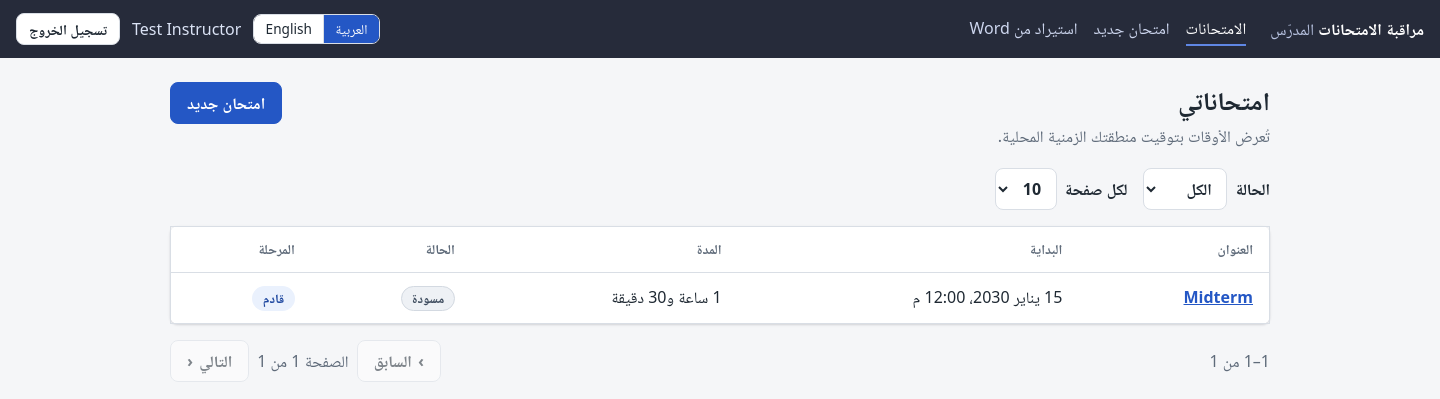
Test case: language switching in the running app › switches to English and back immediately, keeps the page and the session, and stores only the language code
This screenshot has width=1440, height=399.
expect the heading "امتحاناتي" is shown: met, box [1178, 83, 1270, 118]
Step 1. Click the button "English" → (289, 29), box [254, 15, 324, 43]
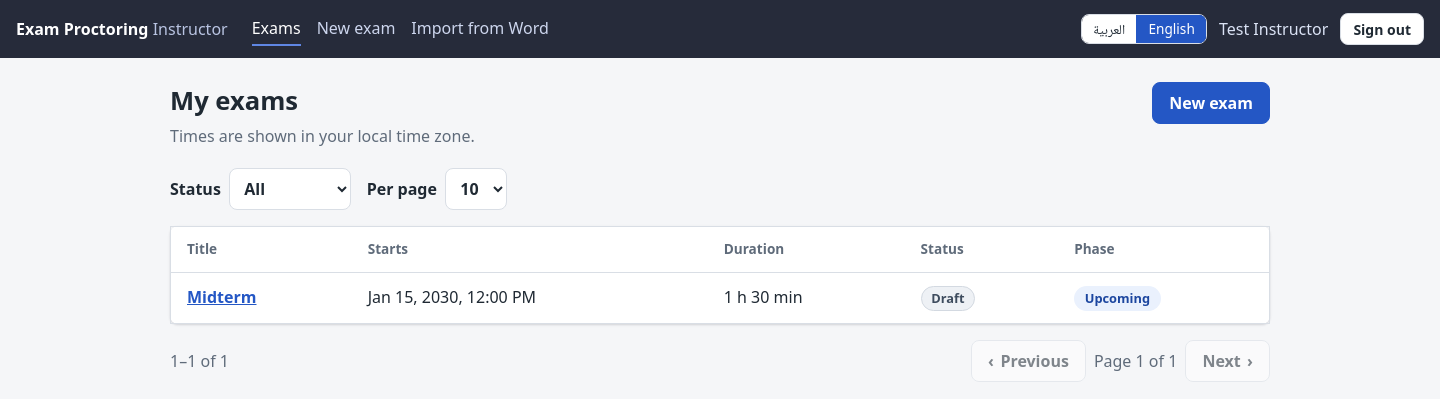
expect the link "Midterm" is shown: met, box [187, 286, 256, 308]
expect the heading "My exams" is shown: met, box [170, 83, 298, 118]
Step 2. Click the button "العربية" → (1109, 29), box [1082, 15, 1136, 43]
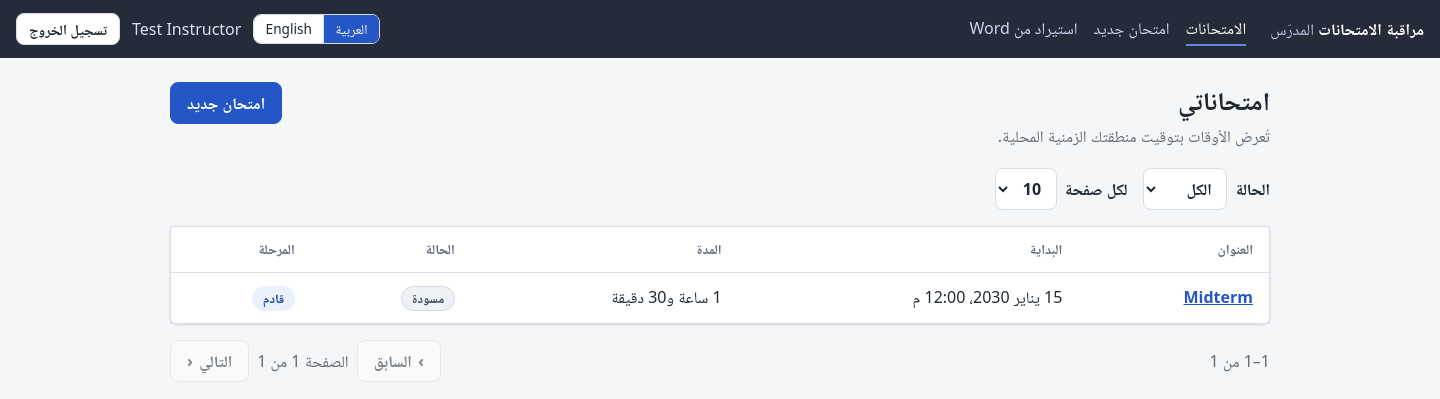
expect the heading "امتحاناتي" is shown: met, box [1178, 83, 1270, 118]
